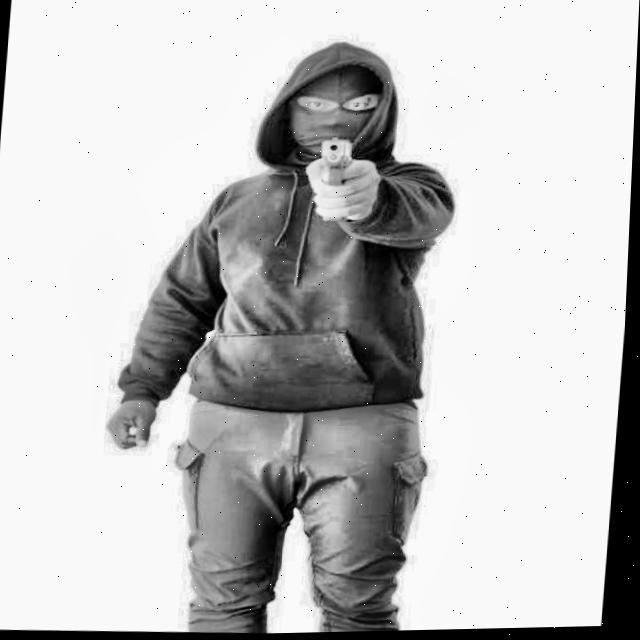pistol: (301, 126, 366, 218)
robbery: (83, 18, 487, 638)
